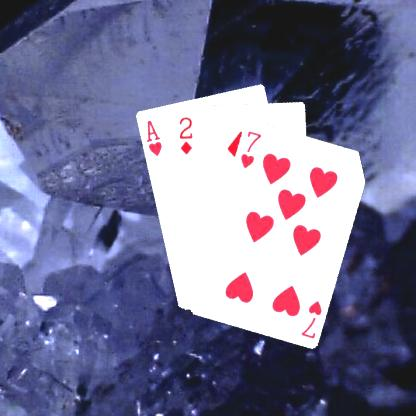2D: (176, 114, 193, 155)
7H: (298, 297, 323, 340), (237, 128, 263, 169)
AH: (143, 118, 163, 157)
